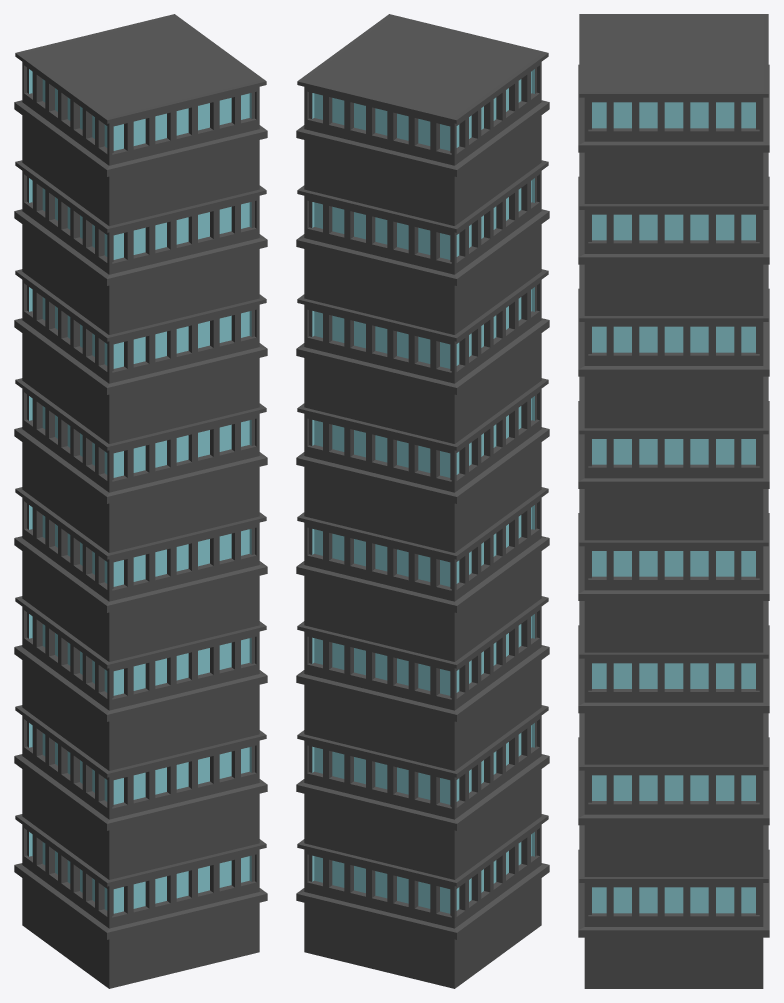
Rendered from Building 2.fbx.
3 renders of one model, left to right at view 1: azimuth 30°, elevation 25°; view 2: azimuth 150°, elevation 25°; view 3: azimuth 270°, elevation 25°, orthographic. The views are drawn at different scales.
Parts seen in each view (by area): view 1: Cube.001; view 2: Cube.001; view 3: Cube.001.
Part boxes in pixels (x1,y1,x2,y2): Cube.001: (14,14,267,988); Cube.001: (296,14,549,988); Cube.001: (578,14,769,988).
Size of the model in its own units: 3147 by 16301 by 3147.
